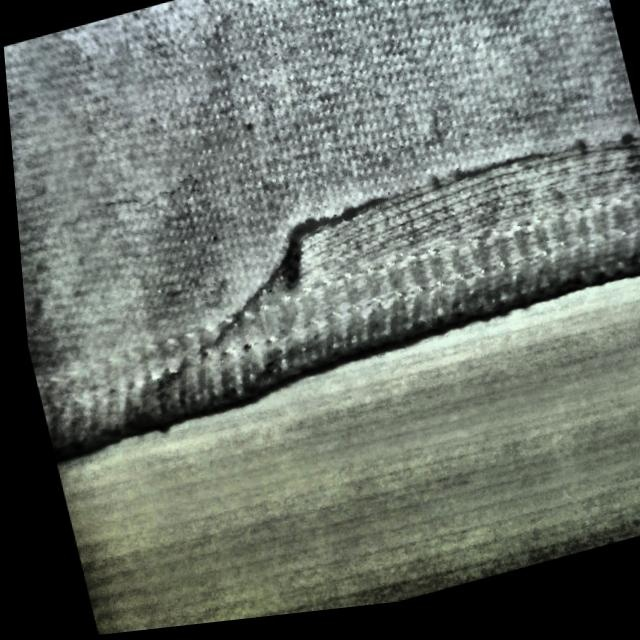seam: (210, 61, 639, 398)
